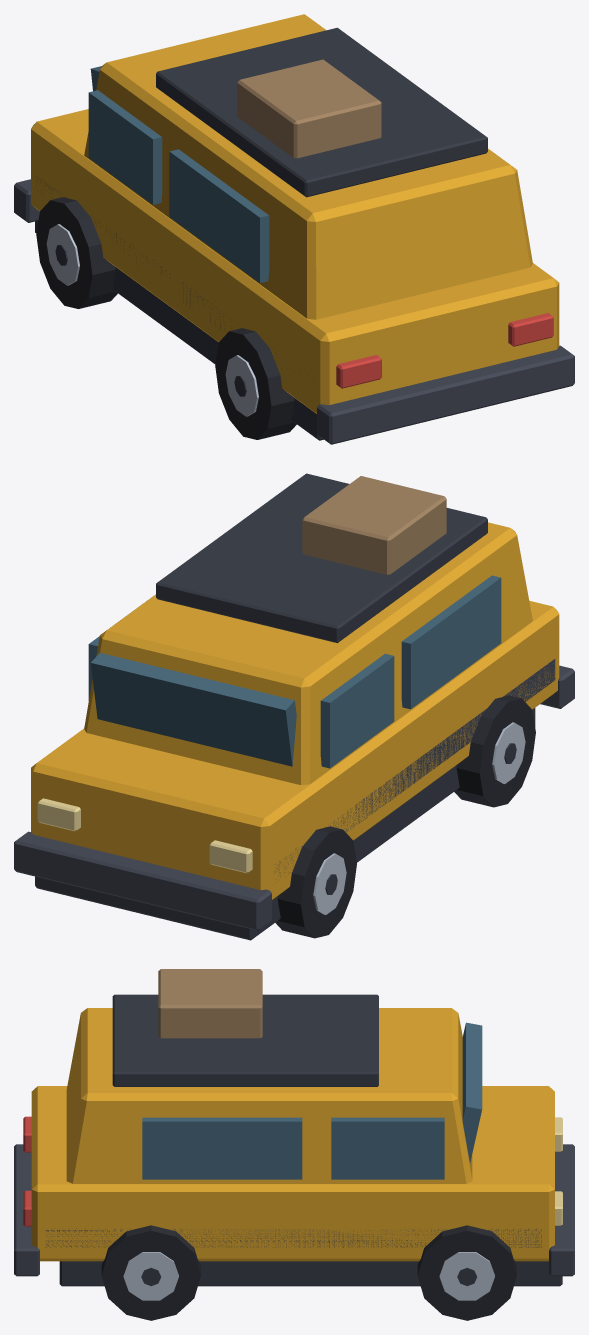
File: Stylized_Apoc_Vehicle_01_Damaged_Van.fbx
3 views of the same model, one above another, from view 1: azimuth 30°, elevation 25°; view 2: azimuth 150°, elevation 25°; view 3: azimuth 270°, elevation 25° (orthographic). The views are drawn at different scales.
Parts seen in each view (by area): view 1: Stylized_Apoc_Vehicle_01_Damaged_Van; view 2: Stylized_Apoc_Vehicle_01_Damaged_Van; view 3: Stylized_Apoc_Vehicle_01_Damaged_Van.
Boxes of the visible parts, box(x1,y1,x2,y2) form: Stylized_Apoc_Vehicle_01_Damaged_Van: box(14, 14, 574, 444); Stylized_Apoc_Vehicle_01_Damaged_Van: box(14, 473, 574, 940); Stylized_Apoc_Vehicle_01_Damaged_Van: box(14, 969, 574, 1320).
Size of the model in its own units: 2.34 by 2.45 by 4.74.
